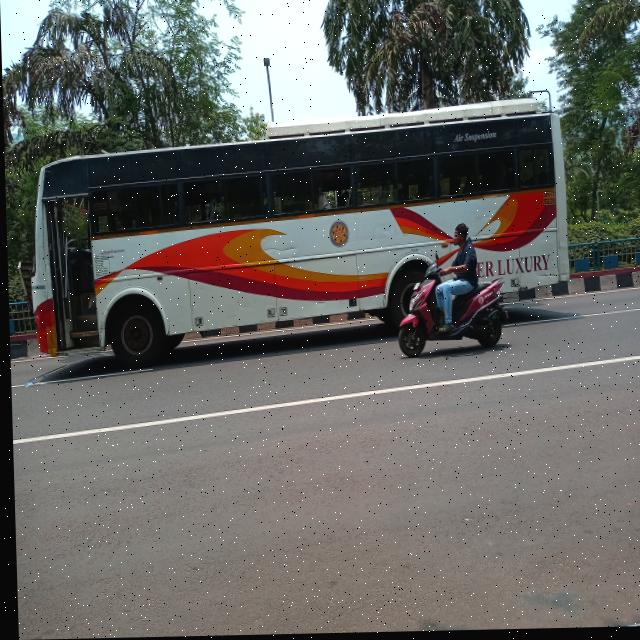bike: (384, 262, 509, 355)
bus: (28, 104, 573, 375)
